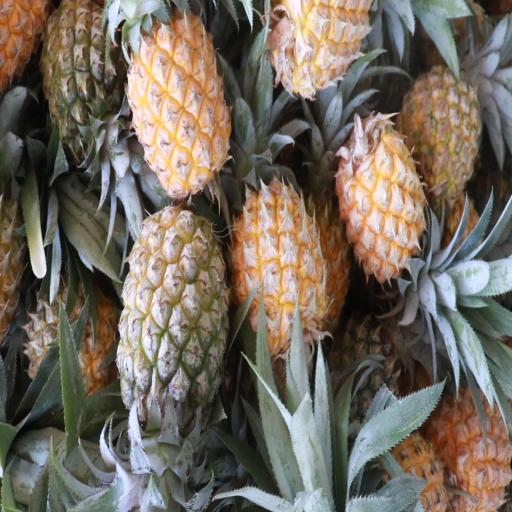------------------------------: (121, 202, 227, 421), (30, 278, 121, 413), (402, 67, 480, 201)
Pineapple - v8 v1: (128, 9, 232, 193), (237, 186, 325, 353), (336, 118, 422, 288), (435, 373, 512, 512), (271, 0, 374, 91)
